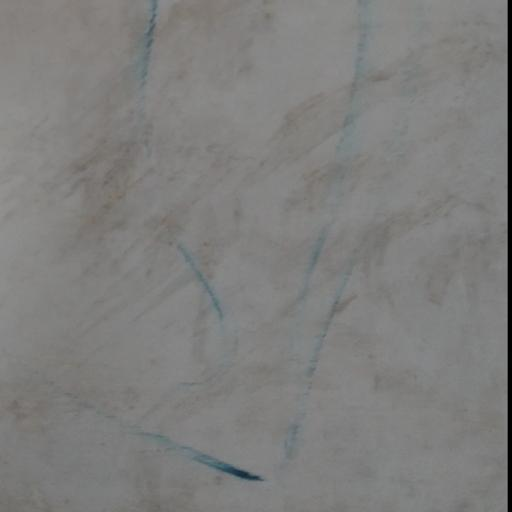stain: (58, 0, 512, 512)
